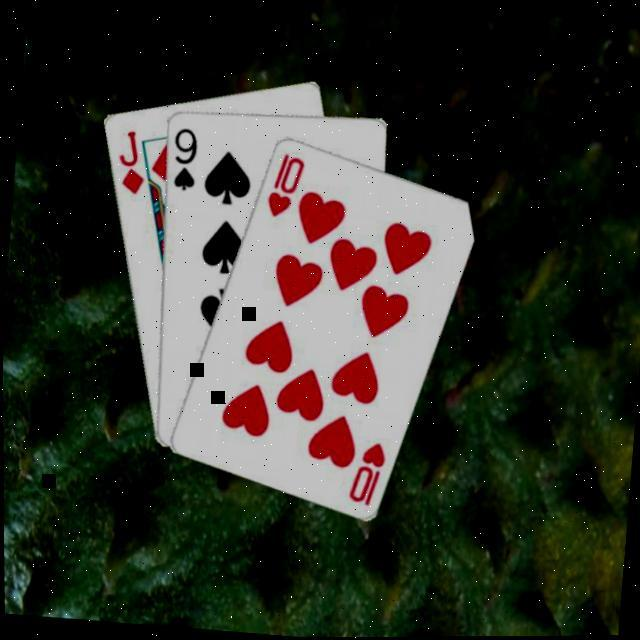10H: (262, 150, 308, 223), (344, 438, 390, 511)
9S: (166, 124, 202, 194)
JD: (112, 126, 152, 200)
